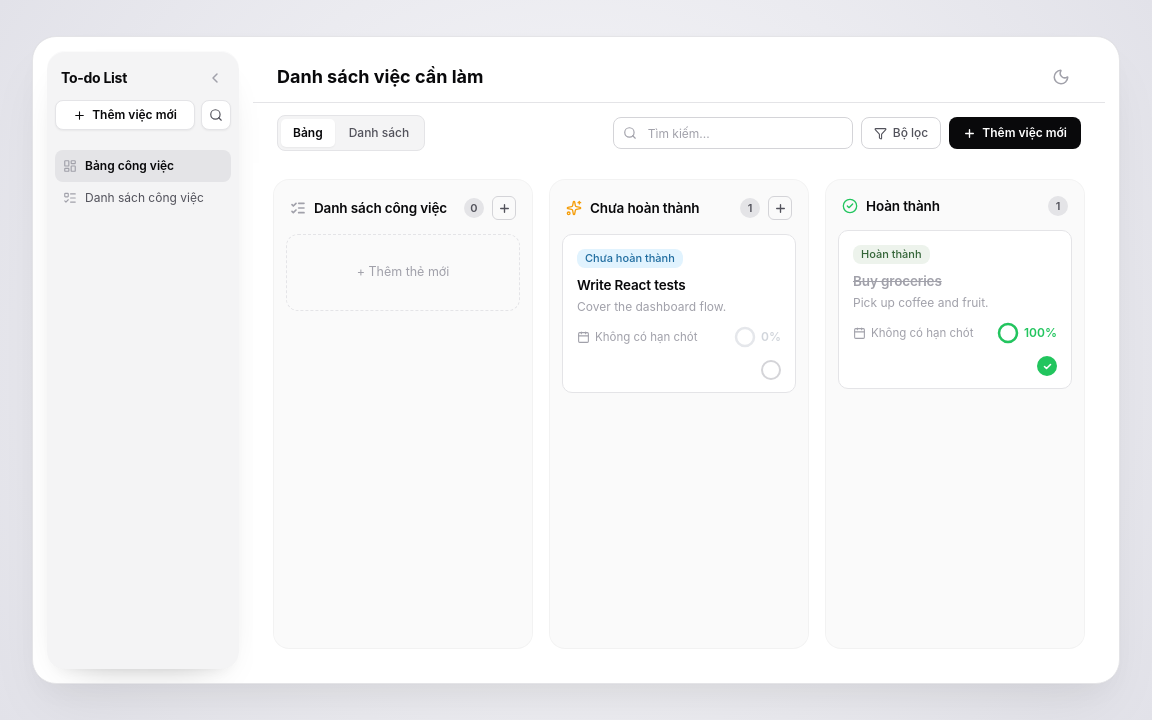
Test: Todo dashboard › task form opens as an accessible dialog and closes with escape
The image size is (1152, 720).
Click the 2nd button "Thêm việc mới" at point(1015, 133), box [949, 117, 1081, 149]
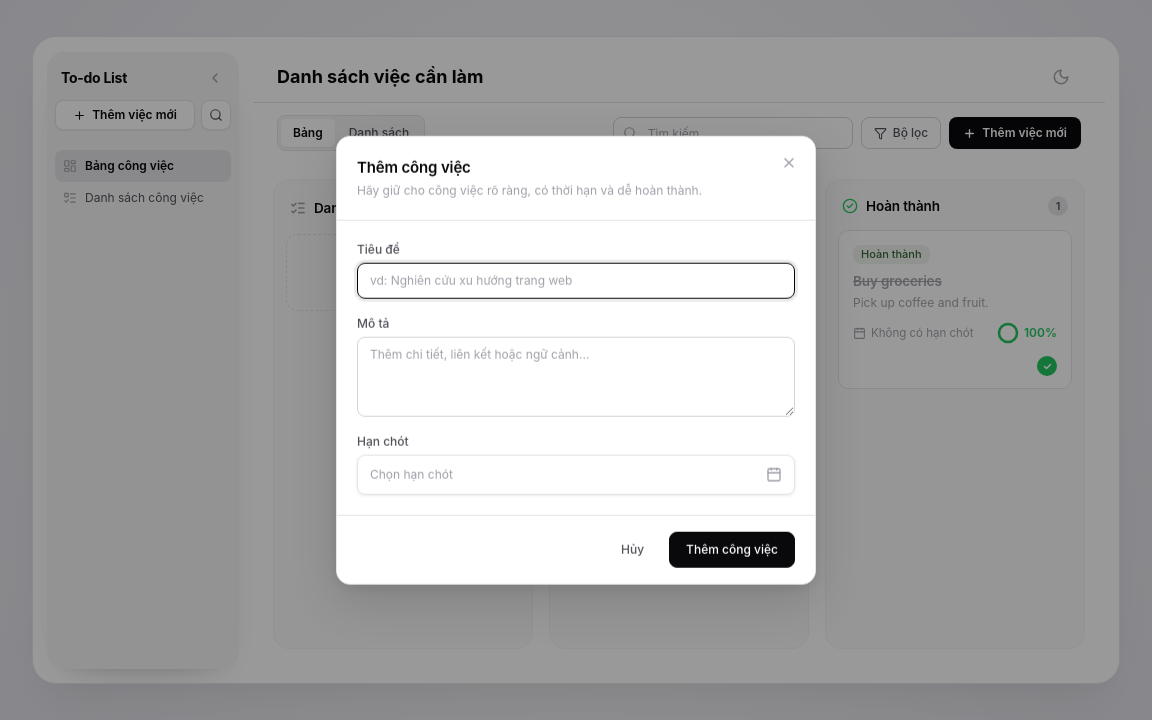
Now the dialog is shown, box [336, 136, 816, 584]
Press Escape
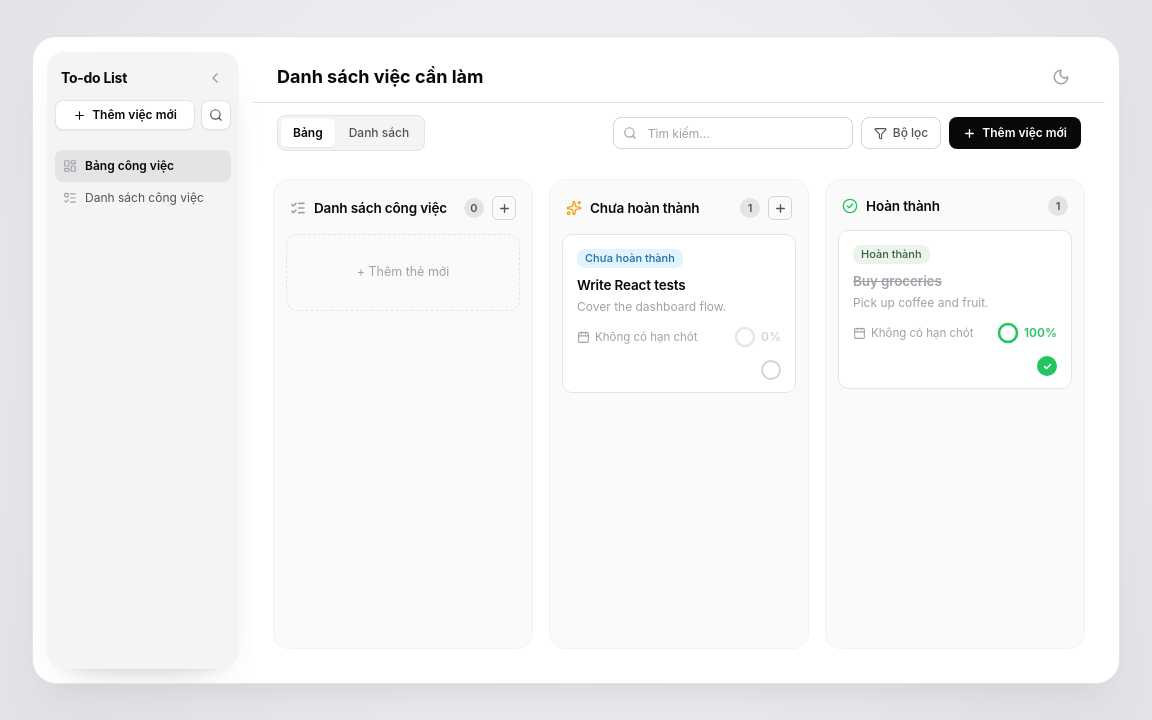
Now the dialog is gone
